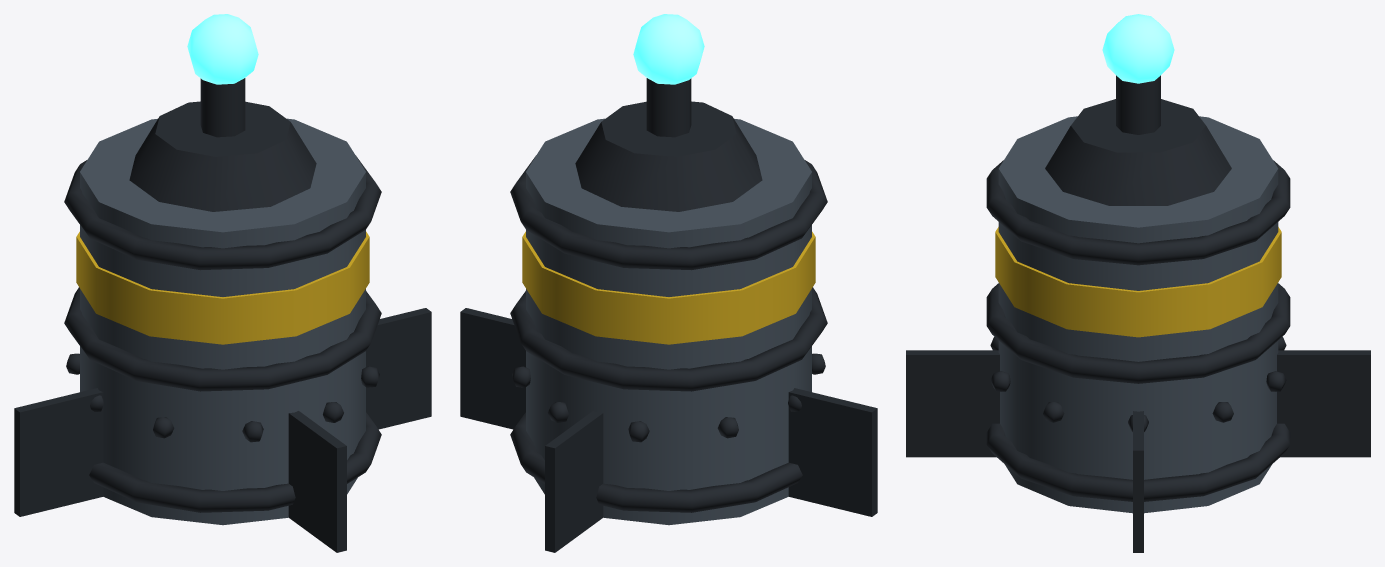
The model's file is depth-charge.glb.
3 views of the same model, side by side, from view 1: azimuth 30°, elevation 25°; view 2: azimuth 150°, elevation 25°; view 3: azimuth 270°, elevation 25° (orthographic). The views are drawn at different scales.
Parts seen in each view (by area): view 1: Mesh_Drum, Mesh_Cap, Mesh_WarnBand, Mesh_Fin2, Mesh_Hoop2, Mesh_Hoop1, Mesh_Fin0, Mesh_Fin3, Mesh_Hoop0, Mesh_Light, Mesh_Detonator; view 2: Mesh_Drum, Mesh_Cap, Mesh_WarnBand, Mesh_Fin2, Mesh_Hoop2, Mesh_Hoop1, Mesh_Fin0, Mesh_Fin1, Mesh_Hoop0, Mesh_Light, Mesh_Detonator; view 3: Mesh_Drum, Mesh_Cap, Mesh_WarnBand, Mesh_Fin1, Mesh_Fin3, Mesh_Hoop2, Mesh_Hoop1, Mesh_Hoop0, Mesh_Light, Mesh_Detonator, Mesh_Fin0.
Boxes of the visible parts, x1,y1,x2,y2 form: Mesh_Drum: (80, 118, 365, 525); Mesh_Cap: (129, 101, 316, 211); Mesh_WarnBand: (76, 231, 369, 344); Mesh_Fin2: (14, 388, 103, 516); Mesh_Hoop2: (64, 156, 381, 270); Mesh_Hoop1: (64, 287, 381, 391); Mesh_Fin0: (366, 308, 431, 429); Mesh_Fin3: (288, 411, 346, 552); Mesh_Hoop0: (89, 412, 381, 512); Mesh_Light: (187, 14, 258, 84); Mesh_Detonator: (200, 78, 245, 137); Mesh_Drum: (526, 118, 811, 525); Mesh_Cap: (575, 101, 762, 211); Mesh_WarnBand: (522, 231, 815, 344); Mesh_Fin2: (788, 388, 877, 516); Mesh_Hoop2: (510, 156, 827, 270); Mesh_Hoop1: (510, 287, 827, 391); Mesh_Fin0: (460, 308, 525, 429); Mesh_Fin1: (545, 411, 603, 552); Mesh_Hoop0: (510, 412, 802, 512); Mesh_Light: (633, 14, 704, 84); Mesh_Detonator: (646, 78, 691, 137); Mesh_Drum: (998, 116, 1278, 513); Mesh_Cap: (1045, 99, 1231, 205); Mesh_WarnBand: (995, 227, 1281, 337); Mesh_Fin1: (1277, 350, 1370, 457); Mesh_Fin3: (906, 350, 999, 457); Mesh_Hoop2: (986, 160, 1290, 265); Mesh_Hoop1: (986, 283, 1290, 383); Mesh_Hoop0: (986, 423, 1290, 501); Mesh_Light: (1102, 14, 1174, 83); Mesh_Detonator: (1116, 75, 1160, 134); Mesh_Fin0: (1133, 411, 1143, 552).
Size of the model in its own units: 2.06 by 2.14 by 2.06.
